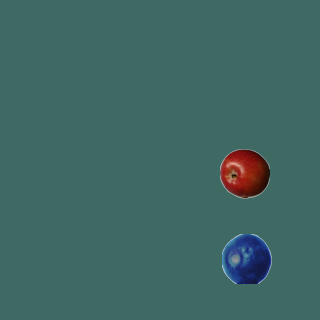Apple Braeburn: (219, 148, 269, 198)
Huckleberry: (221, 233, 271, 283)
